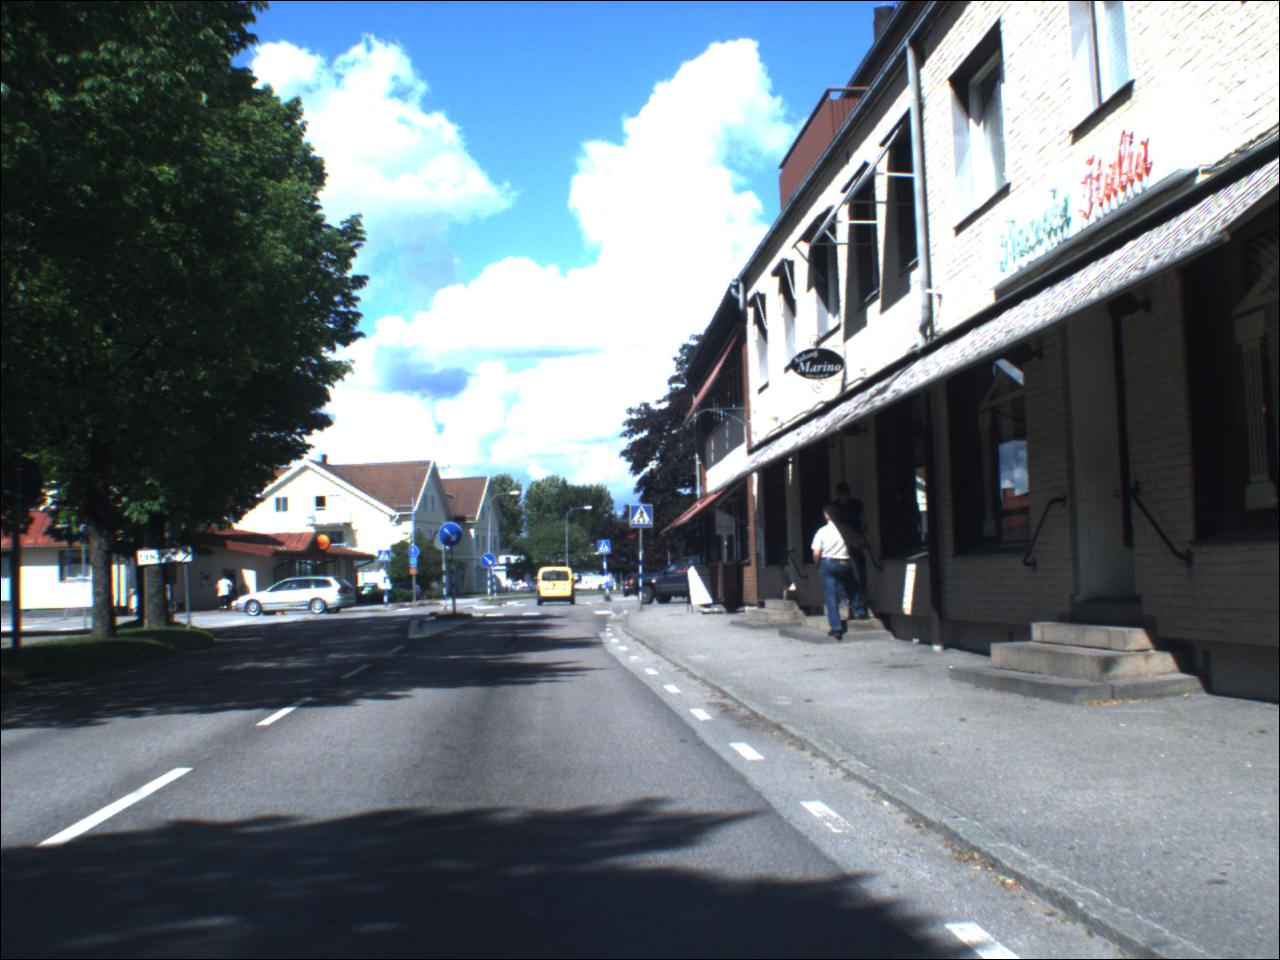PASS_RIGHT_SIDE: (441, 522, 468, 550), (483, 554, 499, 570)
PEDESTRIAN_CROSSING: (632, 506, 657, 531), (599, 542, 613, 557), (381, 551, 394, 564)
